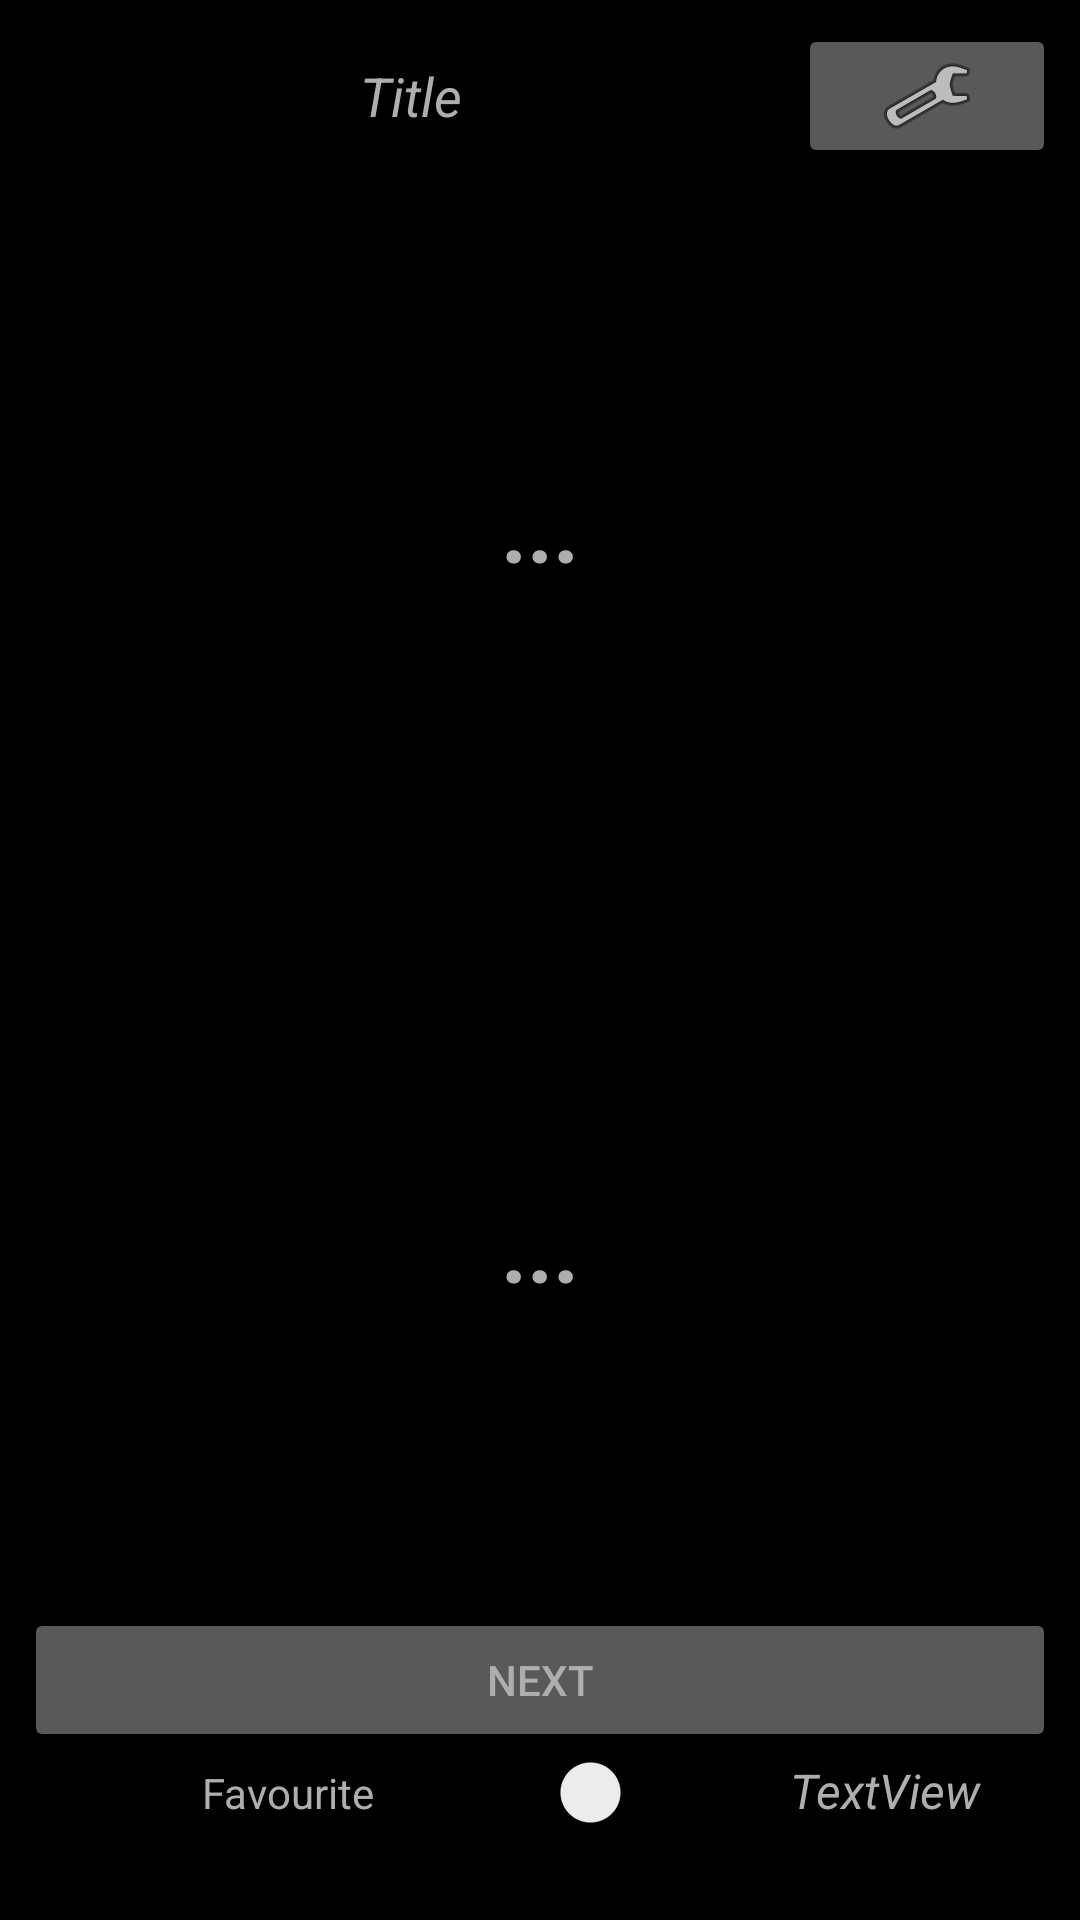

Screen size 1080w x 1920h. Icon name, then its box in pixels as (x1, y1, x2, y2):
manage: (810, 42, 1044, 150)
